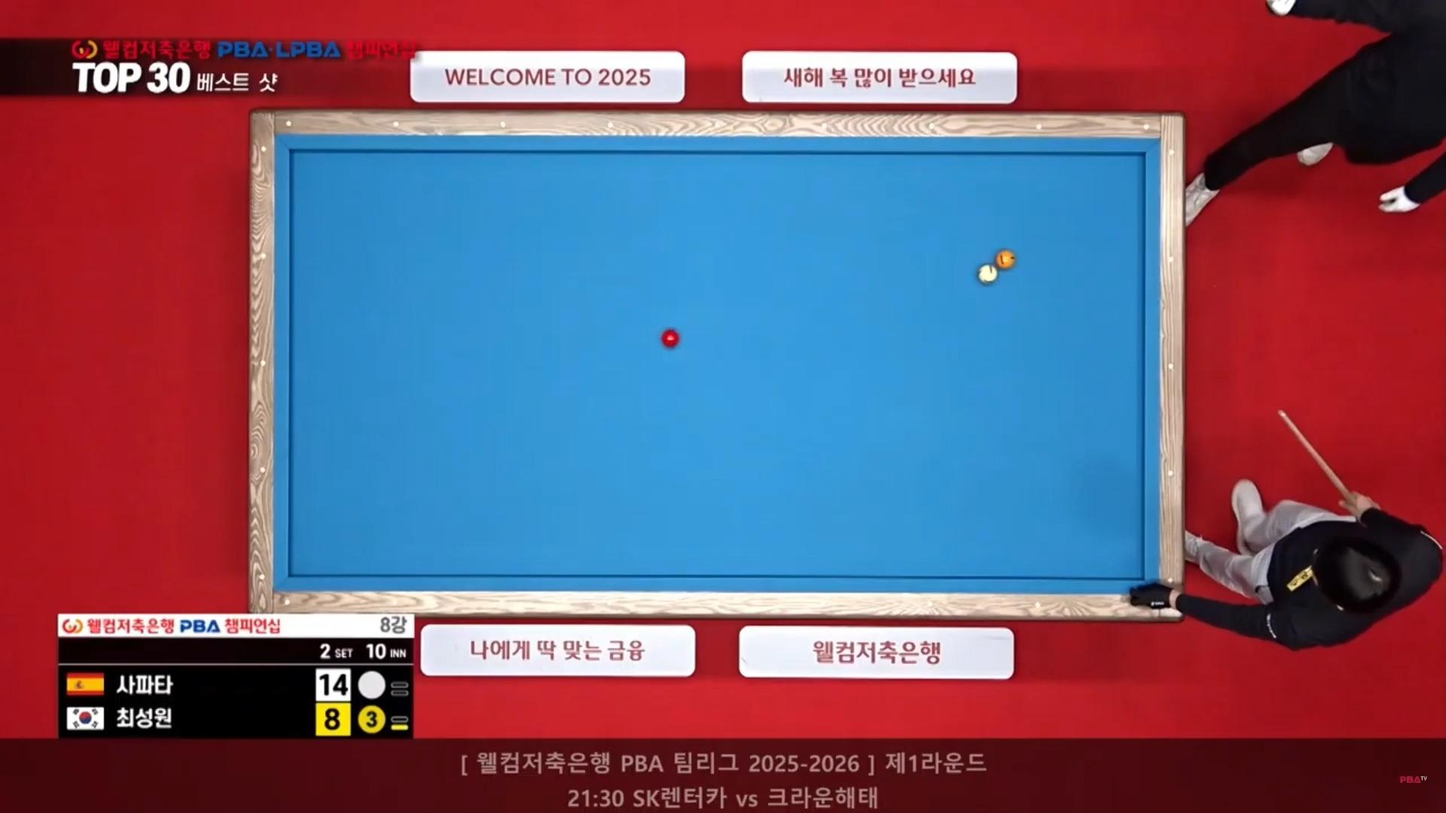Red: (657, 332, 680, 350)
White: (976, 265, 1000, 284)
Yellow: (997, 252, 1021, 270)
